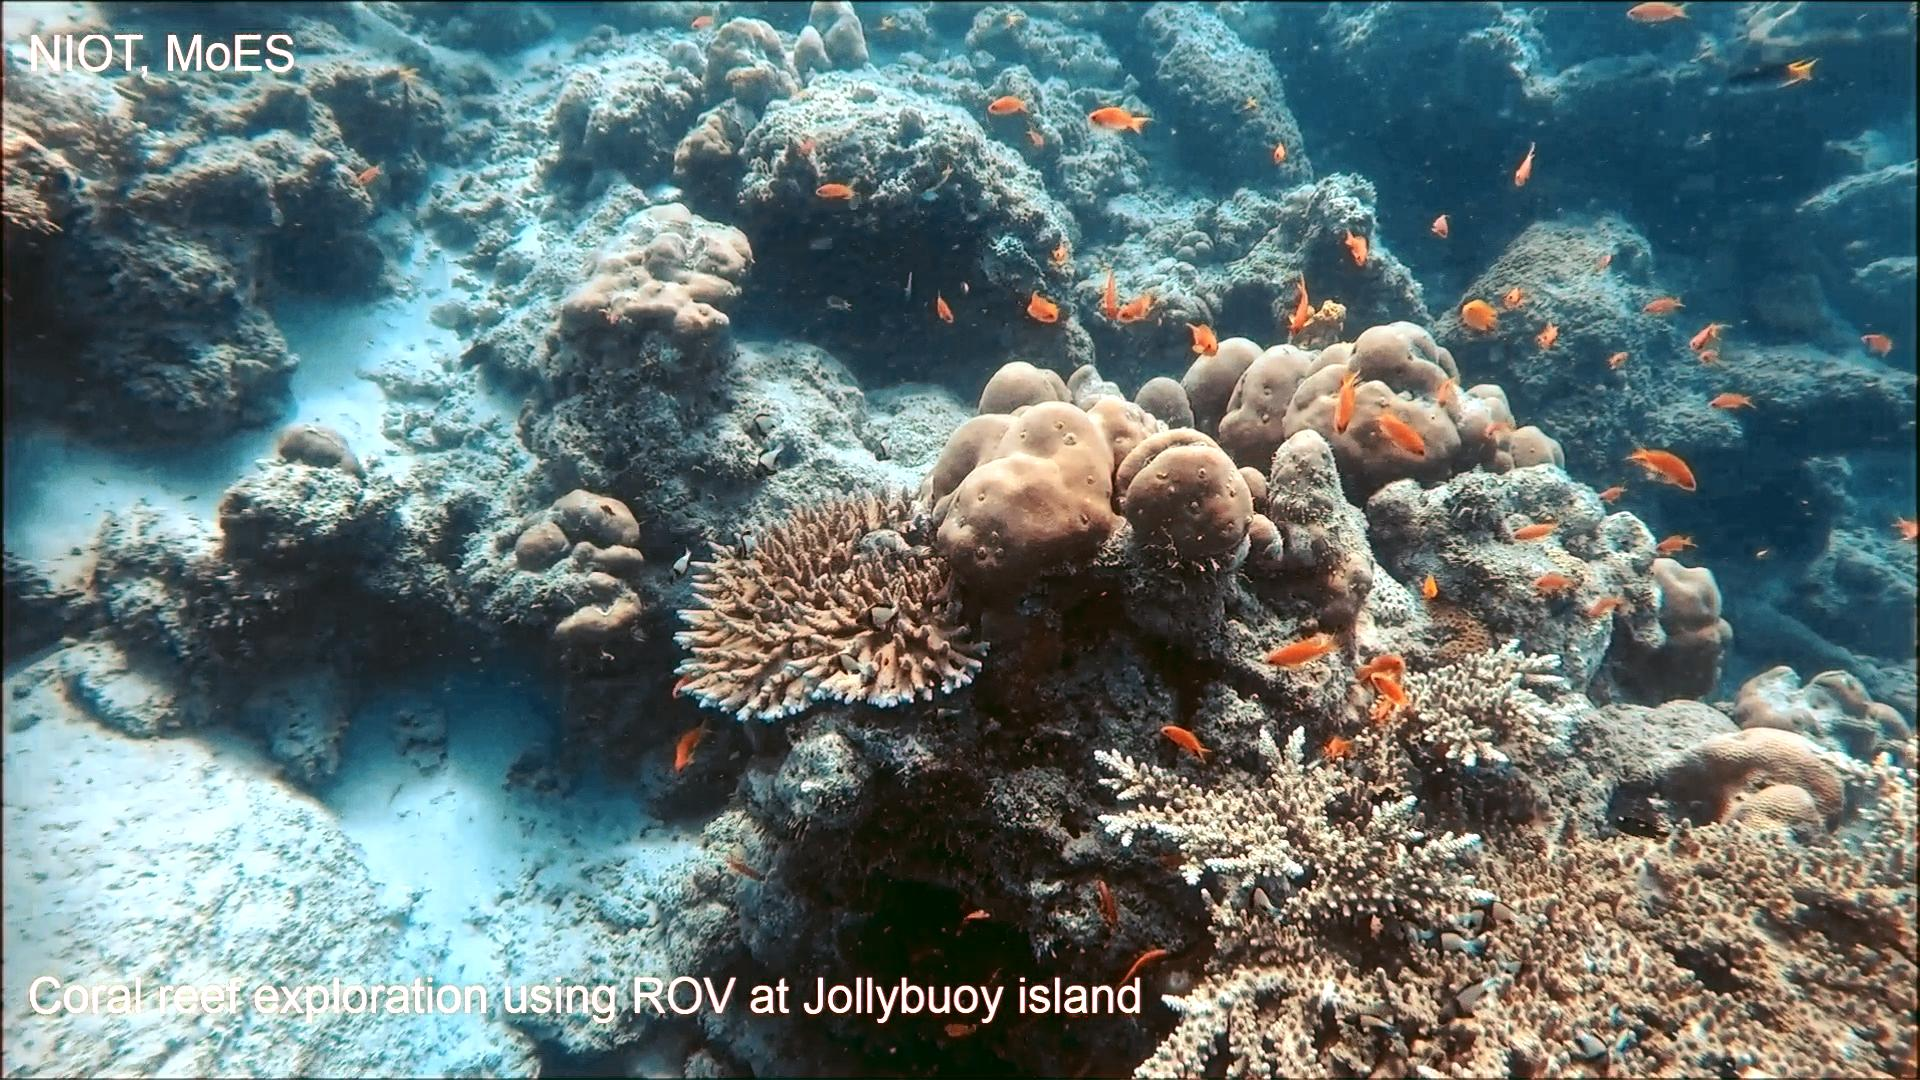Porites-Porites pukoensis: (906, 359, 1259, 604), (1162, 314, 1569, 487)
